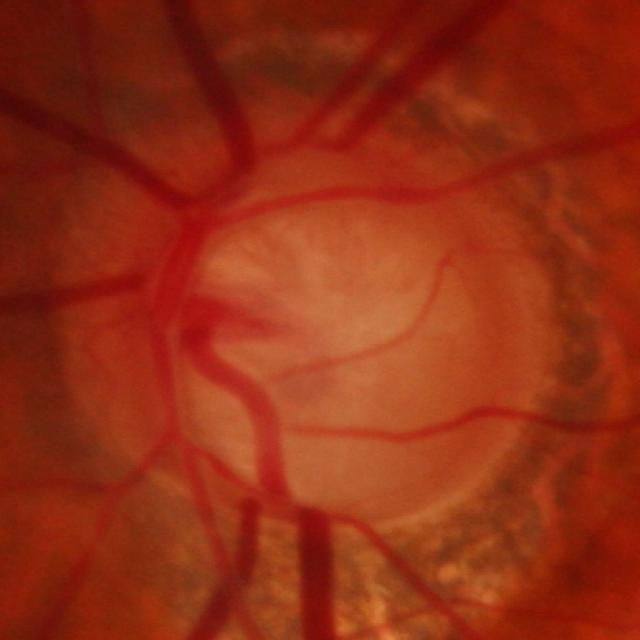OC: (190, 212, 449, 506)
OD: (55, 108, 553, 530)
